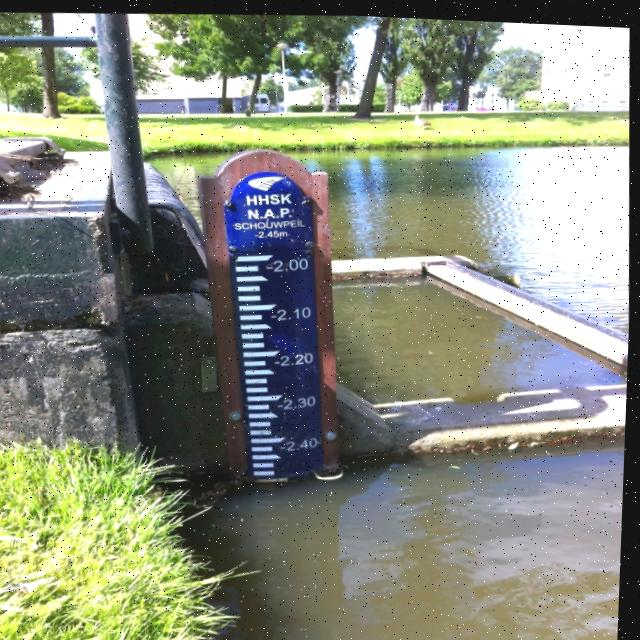water-meter: (213, 167, 333, 495)
